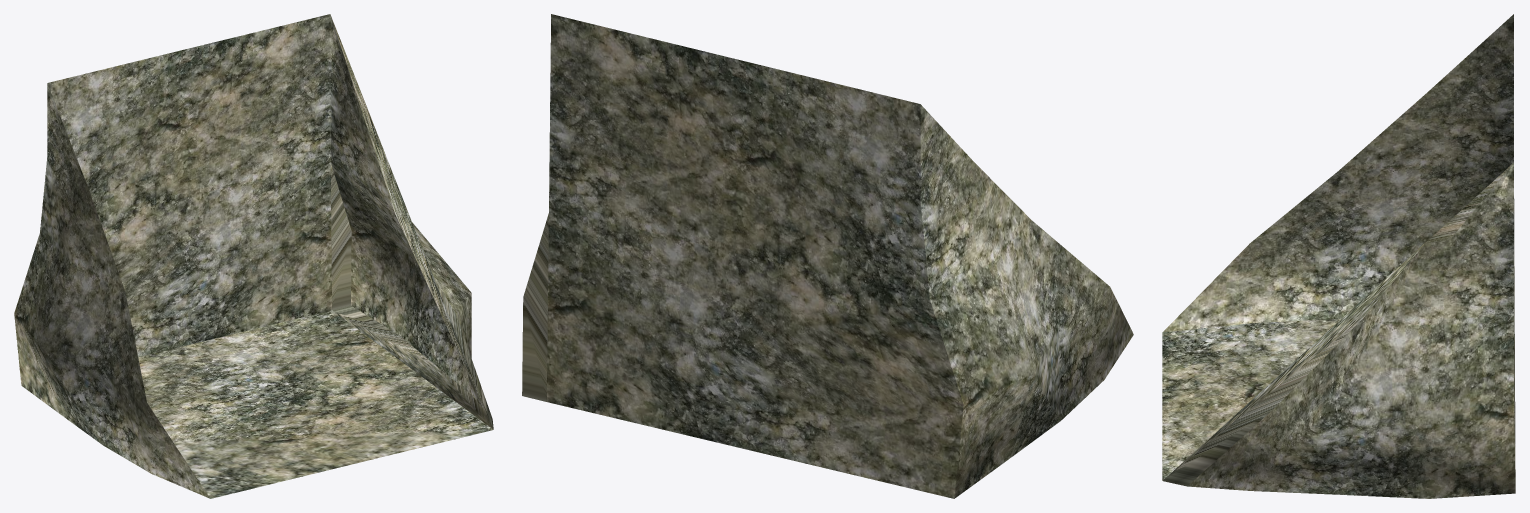
File: rocksteep.obj
The picture shows the model from 3 angles, left to right: view 1: azimuth 30°, elevation 25°; view 2: azimuth 150°, elevation 25°; view 3: azimuth 270°, elevation 25°; orthographic projection. The views are drawn at different scales.
Visible parts, largest first — view 1: Cube; view 2: Cube; view 3: Cube.
Part boxes in pixels (x1=…): Cube: x1=14, y1=14, x2=493, y2=498; Cube: x1=522, y1=14, x2=1133, y2=498; Cube: x1=1162, y1=14, x2=1515, y2=498.
Size of the model in its own units: 2.66 by 2.02 by 2.01.
